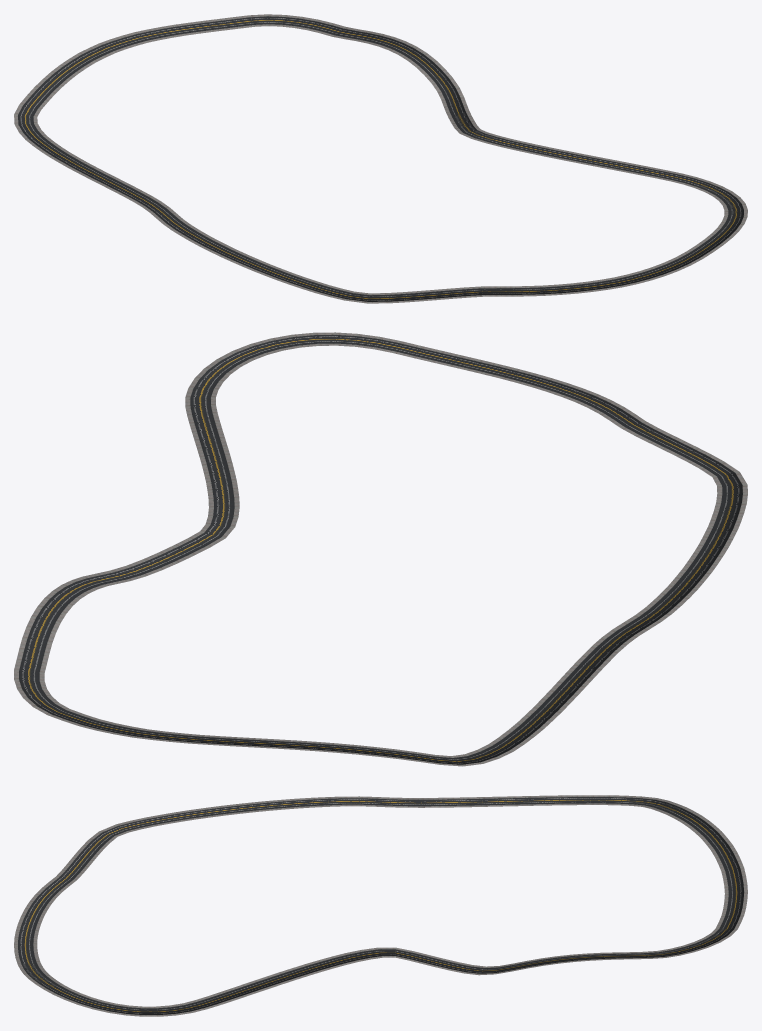
The model's file is racetrack.obj.
3 renders of one model, top to bottom at view 1: azimuth 30°, elevation 25°; view 2: azimuth 150°, elevation 25°; view 3: azimuth 270°, elevation 25°, orthographic. The views are drawn at different scales.
Visible parts, largest first — view 1: ROAD_TILE_Plane.009; view 2: ROAD_TILE_Plane.009; view 3: ROAD_TILE_Plane.009.
Boxes of the visible parts, box(x1,y1,x2,y2) form: ROAD_TILE_Plane.009: box(14, 14, 747, 303); ROAD_TILE_Plane.009: box(14, 332, 747, 766); ROAD_TILE_Plane.009: box(14, 795, 747, 1016).
Bounding box in the file's own units: 695 × 26.23 × 948.
Materials: 2 (2 with a texture image).
